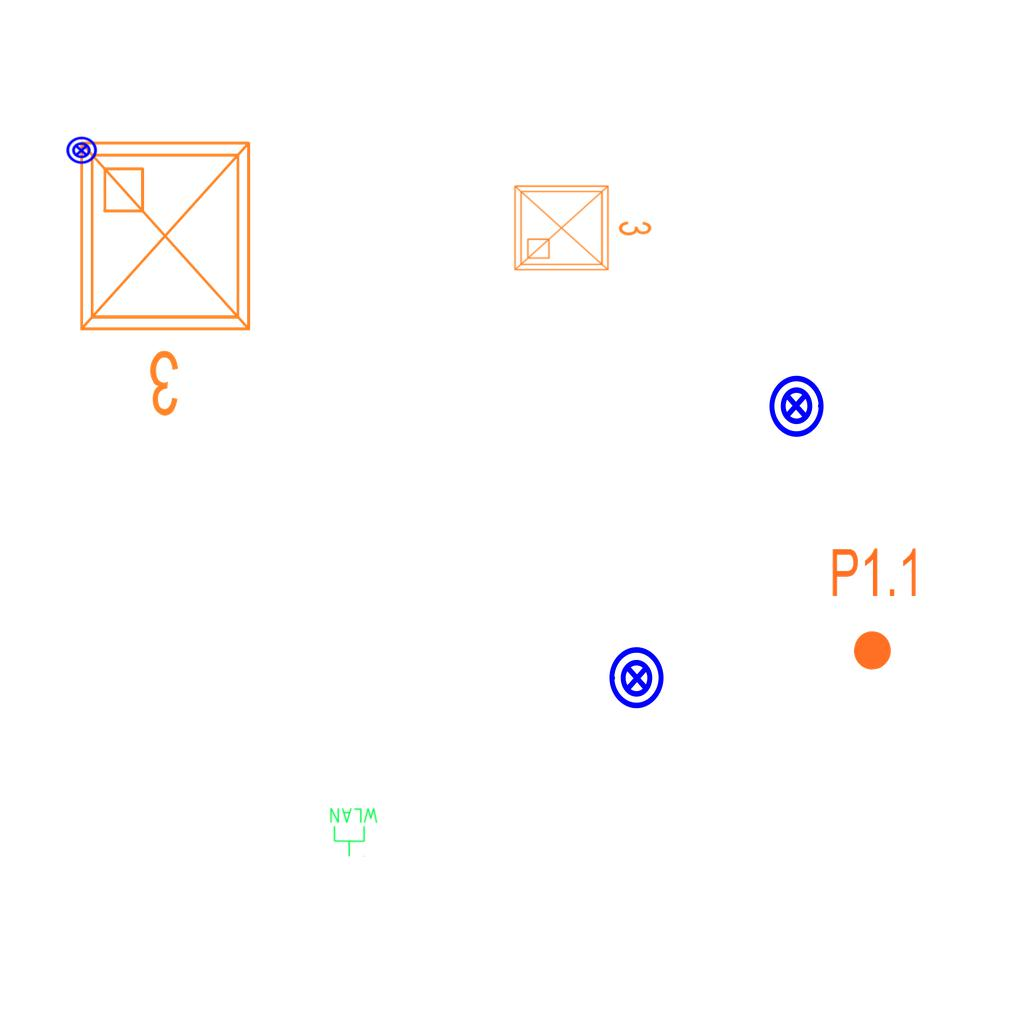Downlight_LED_Einbauleuchten_Flur: (829, 545, 922, 673)
Einbaudownlights_LED_Konferenzraeume: (65, 127, 273, 427), (507, 174, 657, 278)
Taster_beleuchtet: (763, 373, 829, 439), (604, 645, 670, 711), (65, 134, 98, 167)
WLAN: (328, 806, 380, 858)
